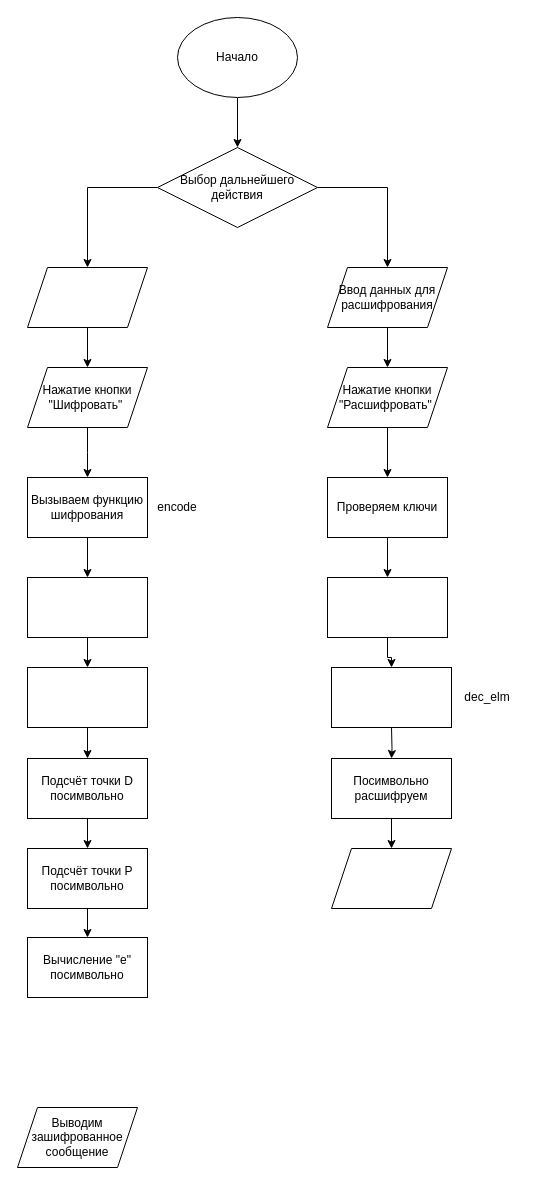
The diagram is 535 pixels wide and 1185 high, and some of its shapes have lost their labels. The shapes that lost their labels are listed below. From the top down, each one's centre as x and y in pixels, then its label:
At pixel 87 297: "Ввод данных для шифрования".
At pixel 87 607: "Формирование K посимвольно".
At pixel 387 607: "Находим X".
At pixel 87 697: "Подсчёт точки R посимвольно".
At pixel 391 697: "Вызываем функцию расшифрования".
At pixel 391 878: "Выводим расшифрованное сообщение".
